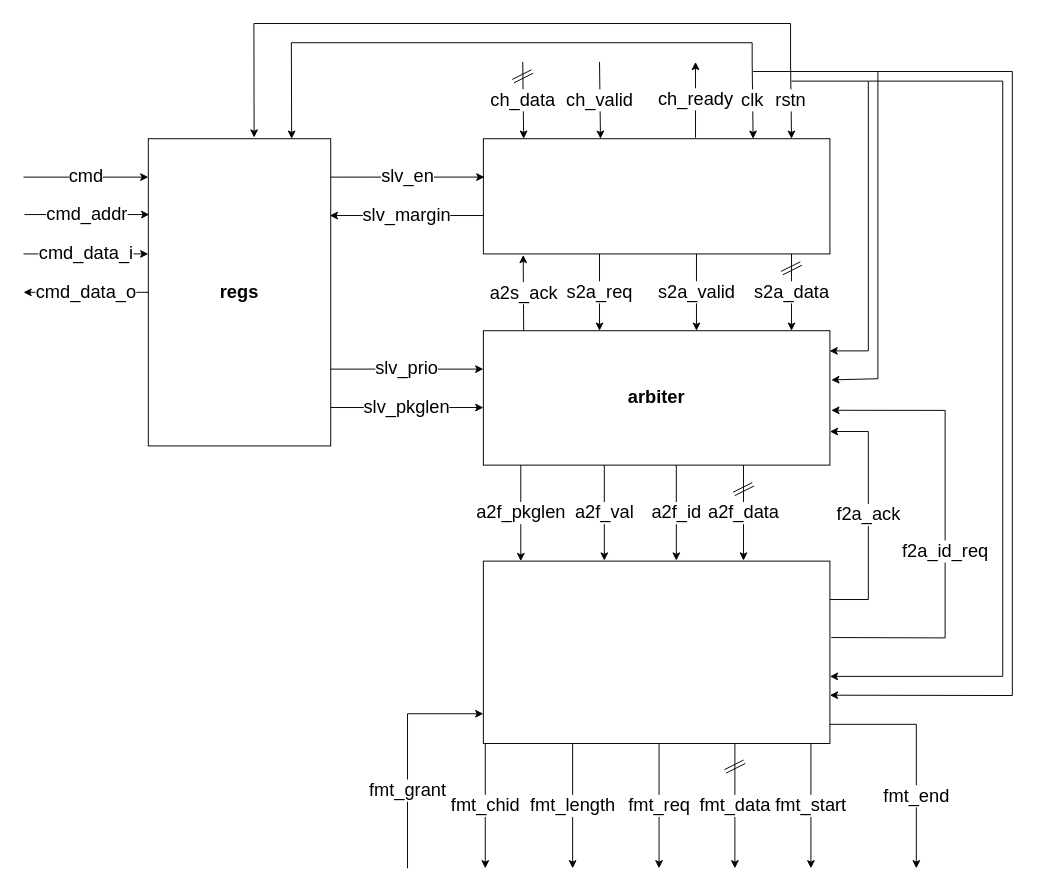
Image size: 1037x893. Some labels were removed from this diagram. Here are the shapes that lost their labels. From the top down, the centre of each, then its label:
At pixel 656 196: "chnl_fifo X 3".
At pixel 656 652: "formatter".
